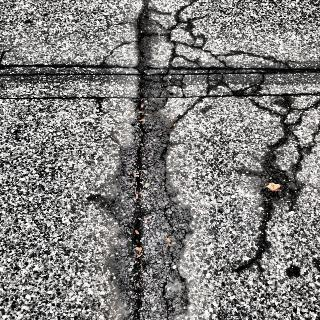alligator-crack: (233, 91, 317, 276), (153, 15, 247, 79)
crack: (112, 12, 152, 318), (10, 57, 111, 86)
